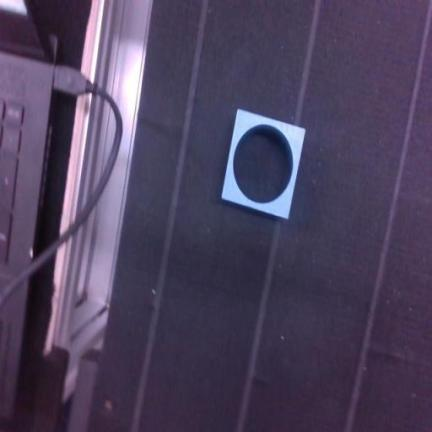square: (222, 110, 305, 218)
